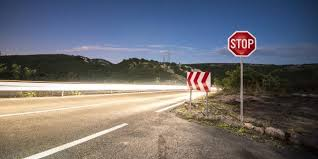stop: (229, 31, 256, 57)
